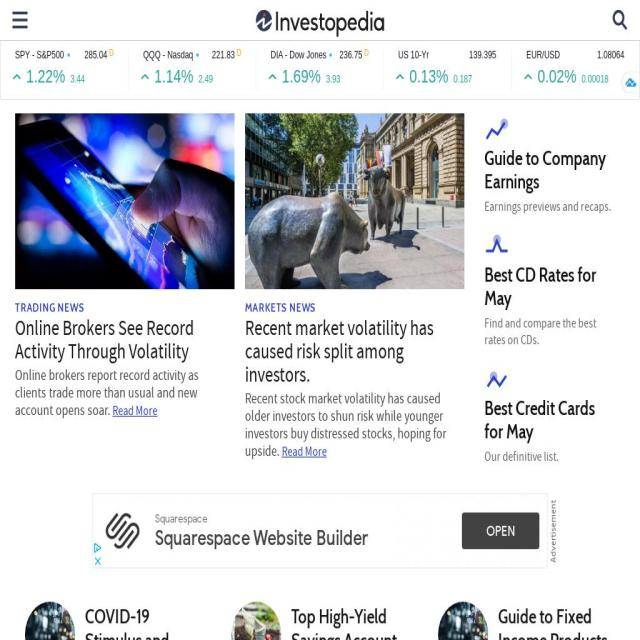button: (244, 113, 465, 462), (15, 113, 235, 421), (484, 113, 615, 200), (484, 230, 615, 317), (484, 363, 615, 450), (15, 601, 212, 640), (221, 601, 418, 640), (427, 601, 624, 640), (255, 10, 385, 30)
heading: (244, 318, 459, 389), (15, 318, 229, 366), (498, 604, 608, 640), (292, 604, 398, 640), (85, 604, 169, 640)
iframe: (0, 40, 640, 100), (92, 494, 548, 568)
image: (244, 103, 465, 299), (15, 103, 235, 299), (255, 10, 385, 37), (231, 601, 281, 640), (12, 10, 28, 30), (612, 10, 628, 30)
text: (244, 391, 459, 462), (15, 367, 229, 421), (484, 146, 607, 193), (484, 262, 597, 310), (484, 396, 596, 443), (484, 317, 615, 350), (484, 200, 615, 217), (484, 450, 615, 467)
